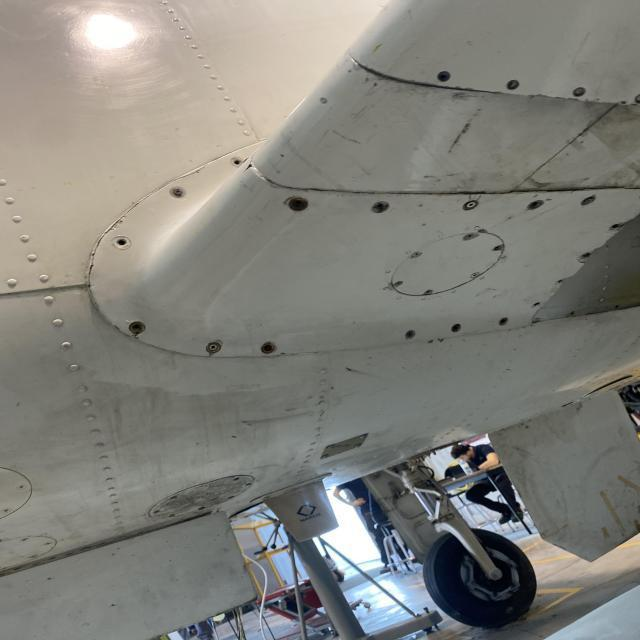Fastener Damage: (286, 196, 311, 211), (257, 340, 280, 355), (370, 201, 396, 214), (129, 318, 146, 335), (113, 234, 133, 248), (570, 85, 588, 96), (436, 70, 452, 82), (526, 200, 545, 210), (506, 78, 521, 90), (499, 316, 510, 326), (232, 157, 244, 166), (610, 222, 620, 232), (452, 323, 461, 333)
Rupture: (78, 210, 108, 285), (108, 196, 139, 235), (174, 158, 214, 181), (243, 164, 261, 172)
